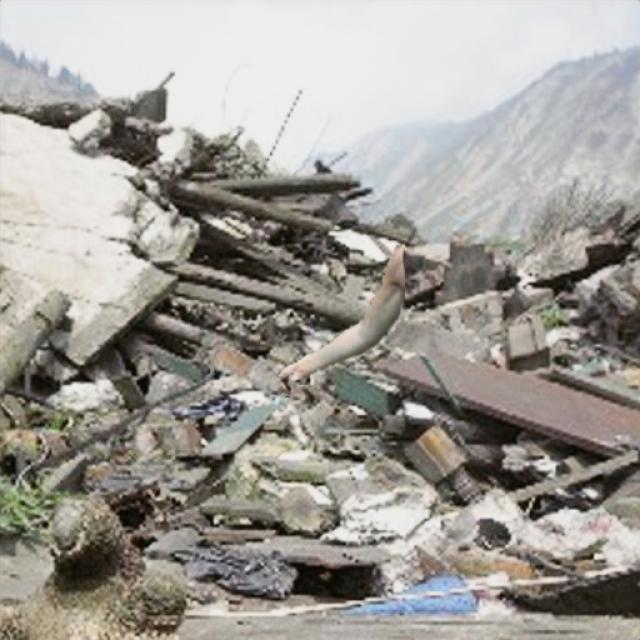Person in Rubble: (278, 244, 404, 396)
